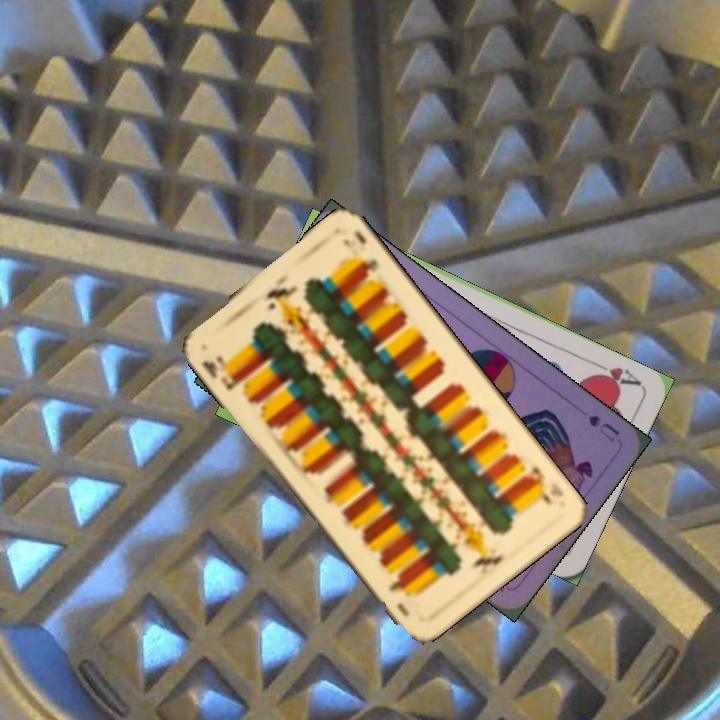E10: (198, 351, 245, 393), (520, 462, 555, 508)
HA: (587, 356, 644, 391)
SU: (584, 411, 622, 445)
